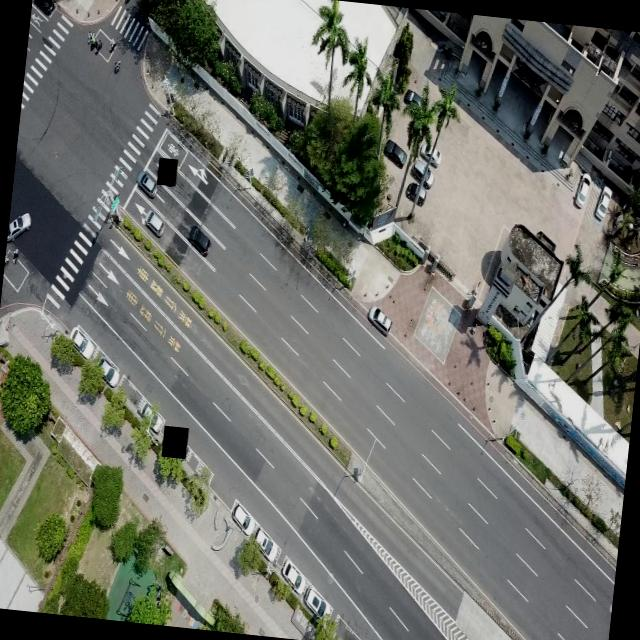bike: (90, 32, 102, 54), (108, 36, 118, 53), (113, 57, 122, 73), (10, 248, 18, 262), (87, 30, 95, 43), (4, 252, 11, 266), (124, 0, 134, 5)
car: (251, 522, 279, 564), (278, 556, 306, 594), (301, 582, 330, 618), (138, 400, 166, 436), (68, 320, 94, 358), (231, 499, 255, 536), (186, 223, 212, 256), (98, 351, 122, 386), (366, 302, 392, 334), (7, 209, 32, 241), (381, 136, 407, 166), (411, 157, 435, 189), (594, 183, 614, 220), (574, 170, 592, 210), (403, 180, 428, 208), (142, 210, 165, 238), (136, 168, 158, 196), (418, 142, 442, 166), (401, 87, 424, 111), (30, 0, 55, 14)
